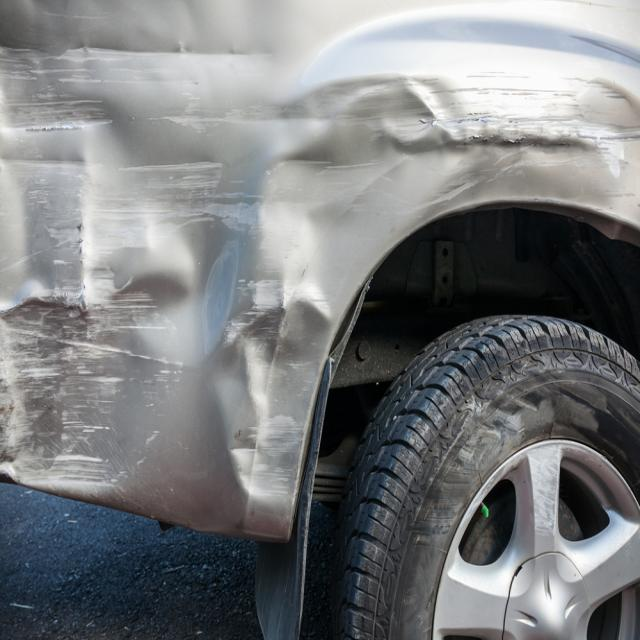dent: (0, 0, 469, 505), (568, 83, 640, 225)
scratch: (455, 68, 590, 196)
